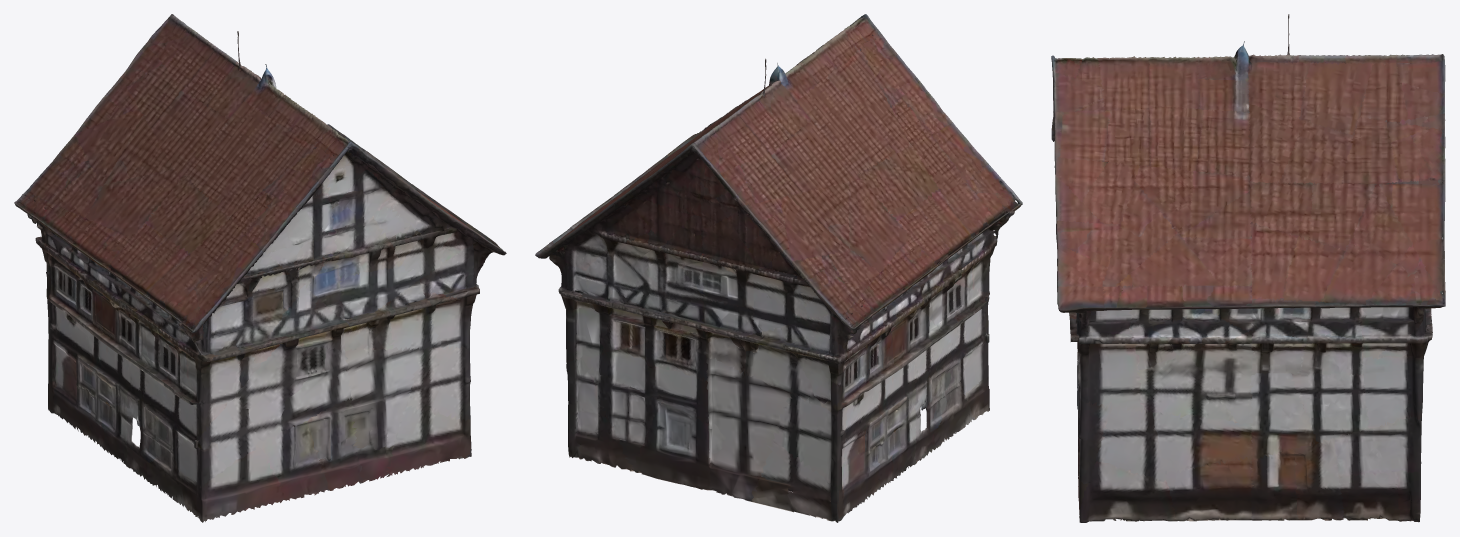
File: building11.glb
3 renders of one model, left to right at view 1: azimuth 30°, elevation 25°; view 2: azimuth 150°, elevation 25°; view 3: azimuth 270°, elevation 25°, orthographic. The views are drawn at different scales.
Bounding box in the file's own units: 1.72 × 2 × 1.65.
Materials: 1 (1 with a texture image).
